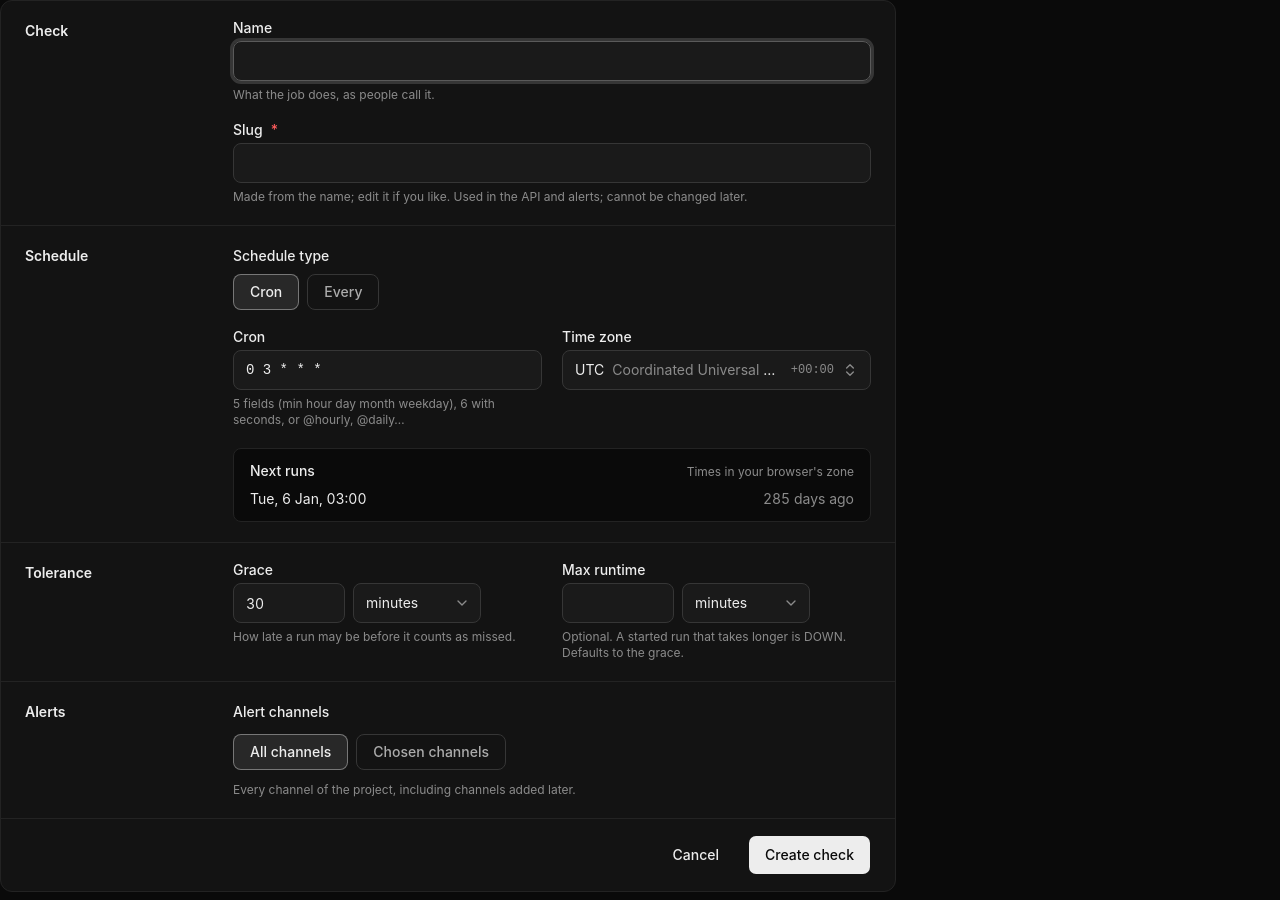
it: CheckForm › shows errors instead of submitting an invalid check
Type "bad slug!" into the field labelled "Slug *".
click(552, 163); type("bad slug!")  # box 233,143 -> 871,183
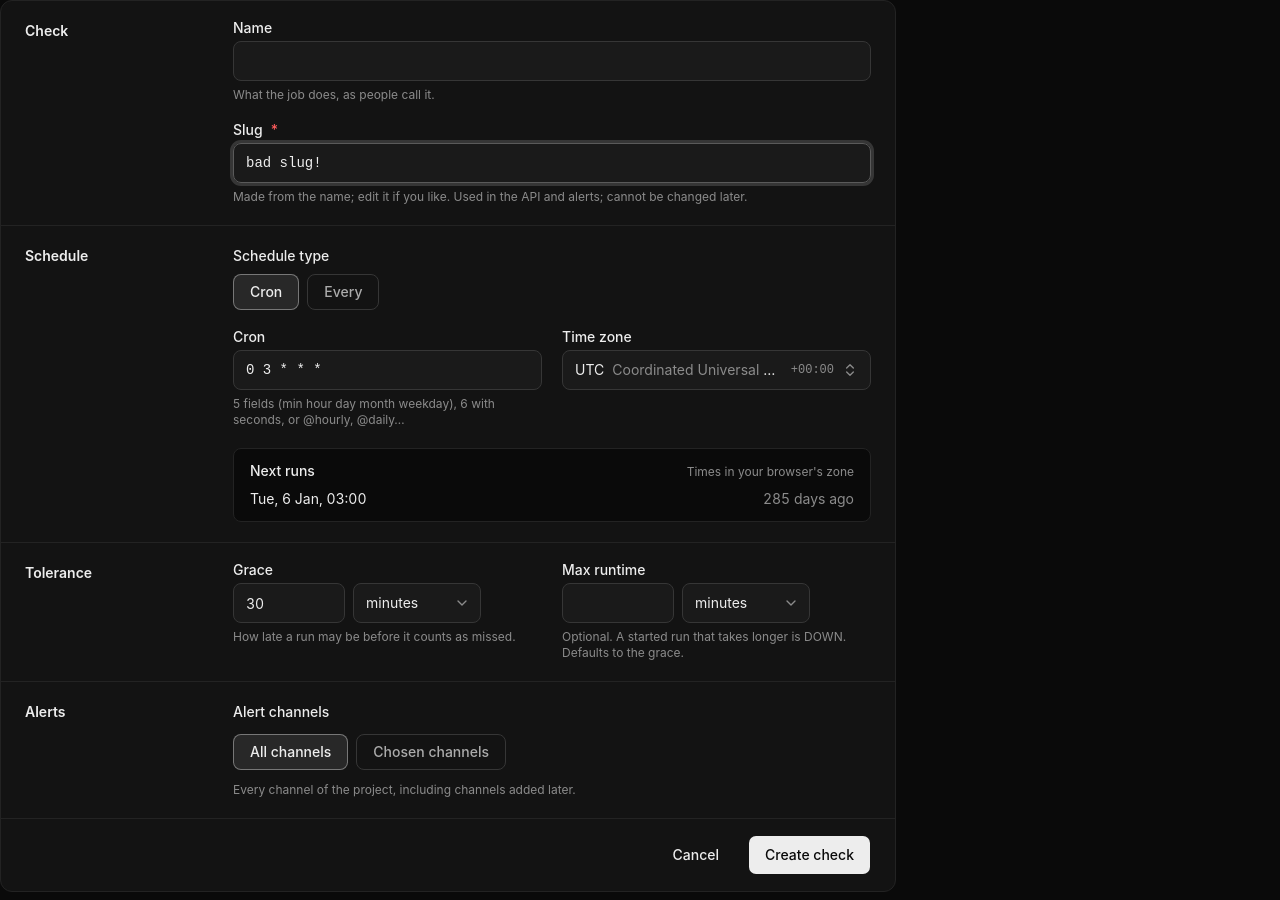
Replace the text in the field labelled "Cron" with "every night" at (388, 370), box 233,350 -> 542,390
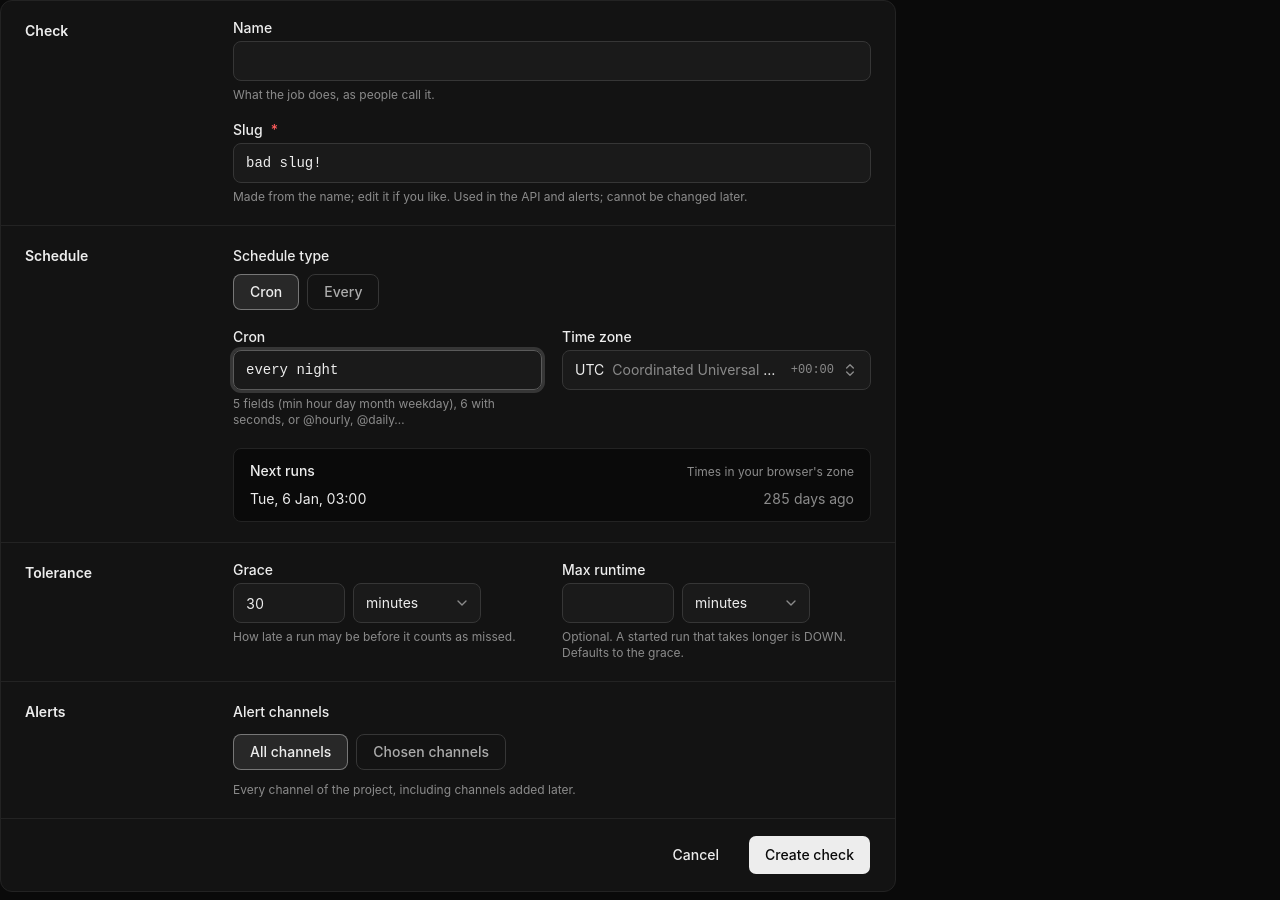
Click the button "Create check".
click(810, 855)  # box 748,835 -> 871,875
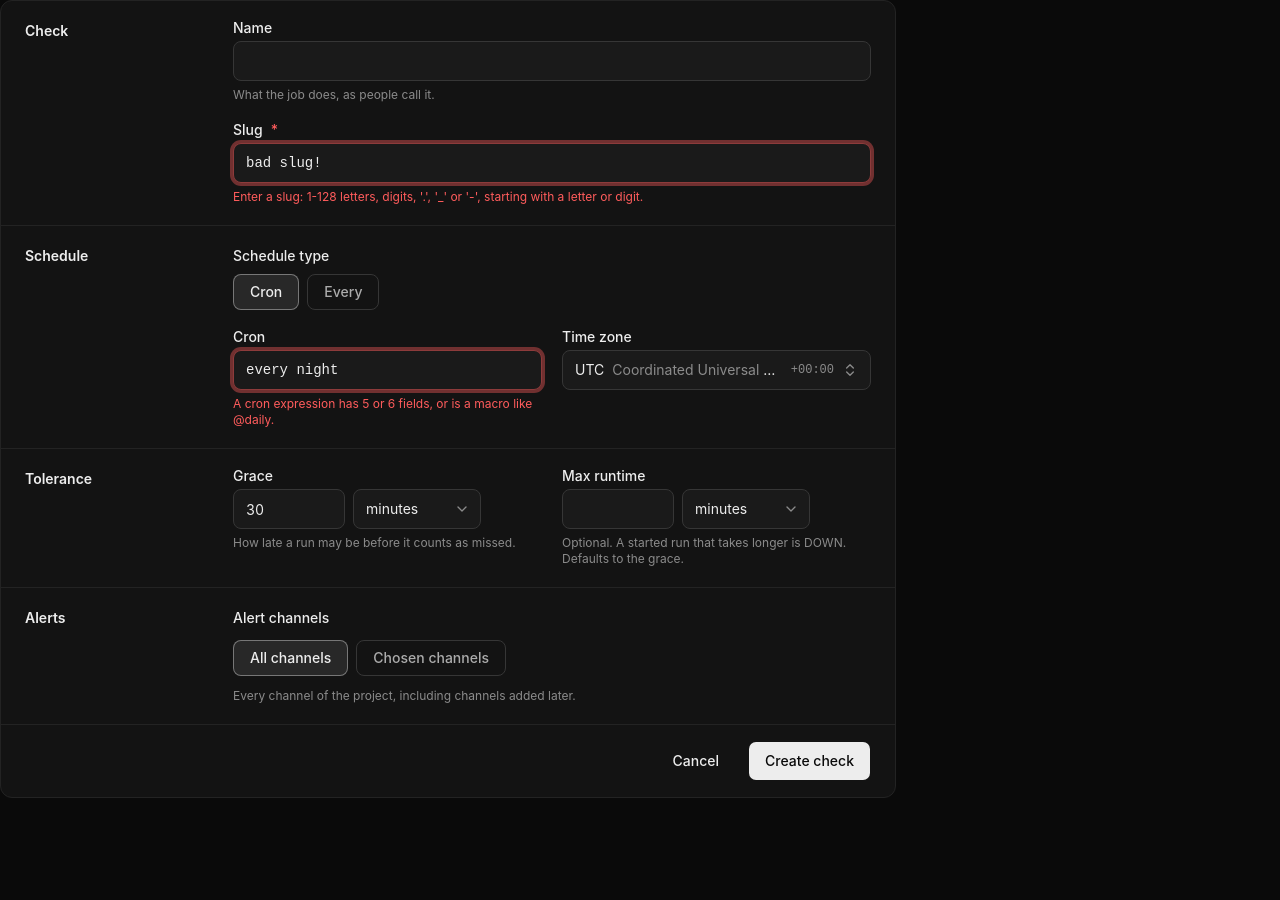
Expected: the text "Enter a slug" is shown, 233,189 -> 643,204
Expected: the text "5 or 6 fields" is shown, 233,396 -> 532,427
